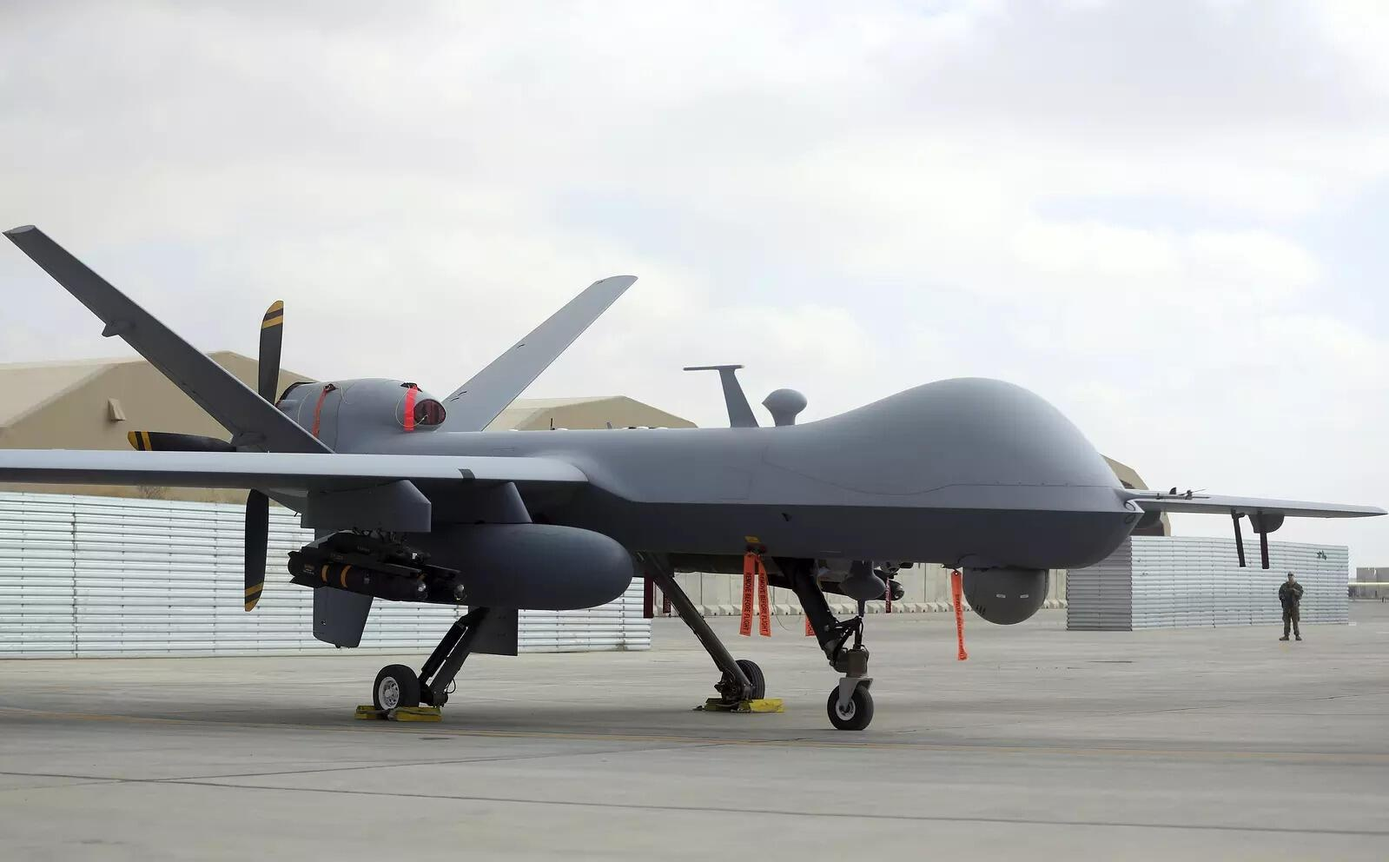aircraft: (1, 275, 1386, 732)
